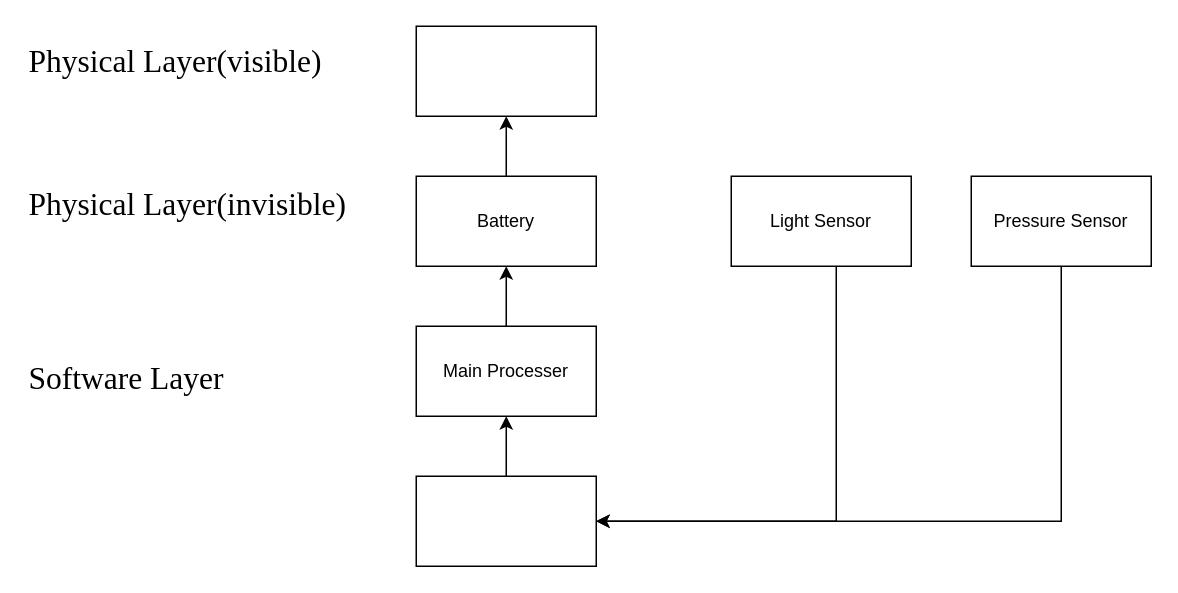
Image size: 1178x593. Some labels were removed from this diagram. The centre of each missing label's shape, as x and y in pixels:
Light Bulb: [505,70]
Main Program: [505,520]
